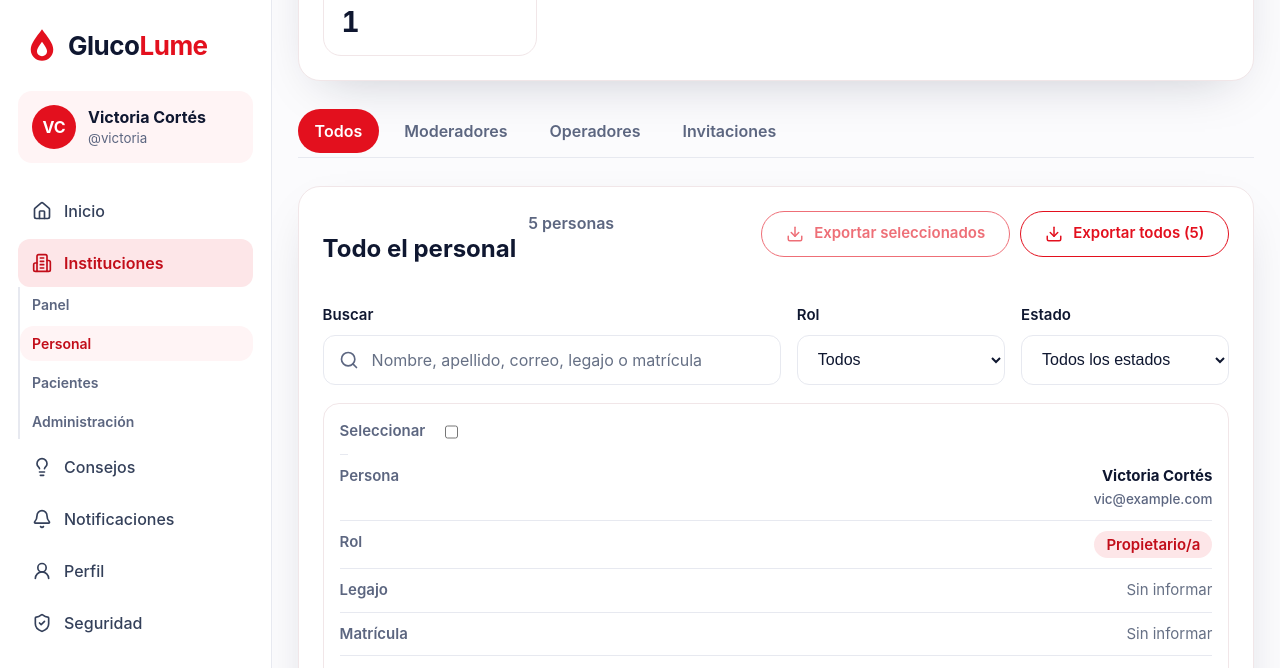
Test: Personal: vista general › filtra por rol (incluido propietario), por estado y combina filtros
(page scrolled)
Select "Propietario/a" in the dropdown labelled "Rol" at x=901, y=360, box [797,335,1005,385]
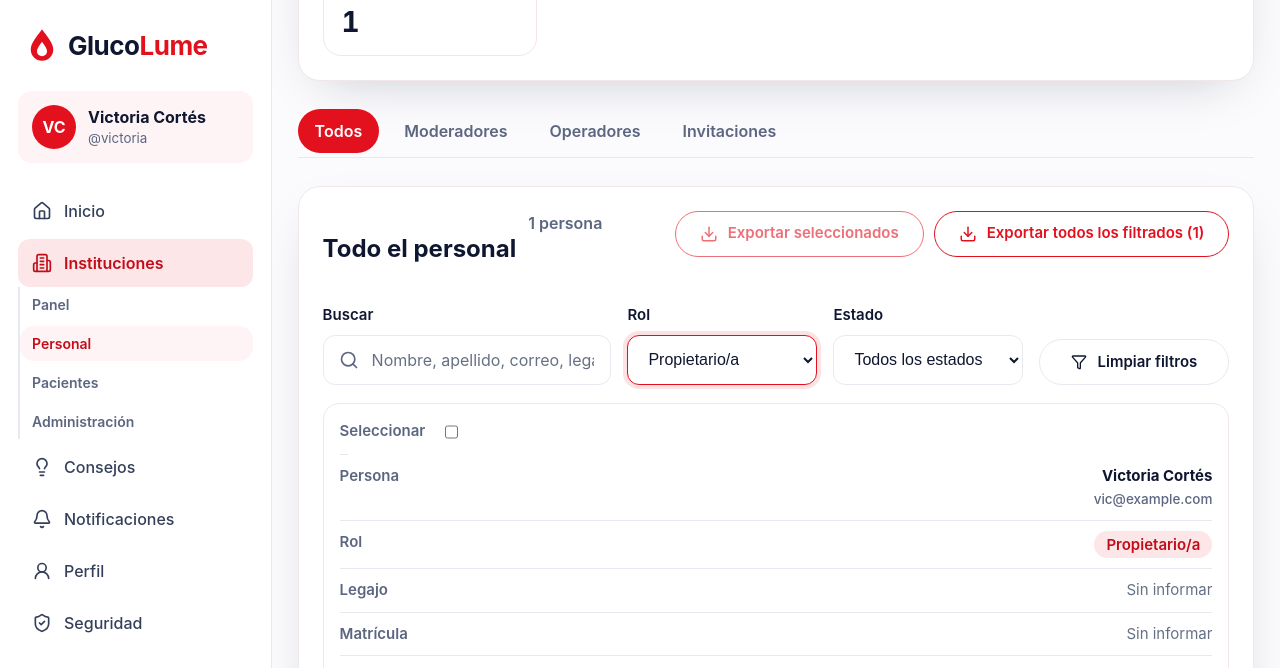
Expected: the text "Victoria Cortés" below "Fecha de baja" is shown, [1102,466,1212,485]
Select "Operadores" in the dropdown labelled "Rol" at x=722, y=360, box [627,335,817,385]
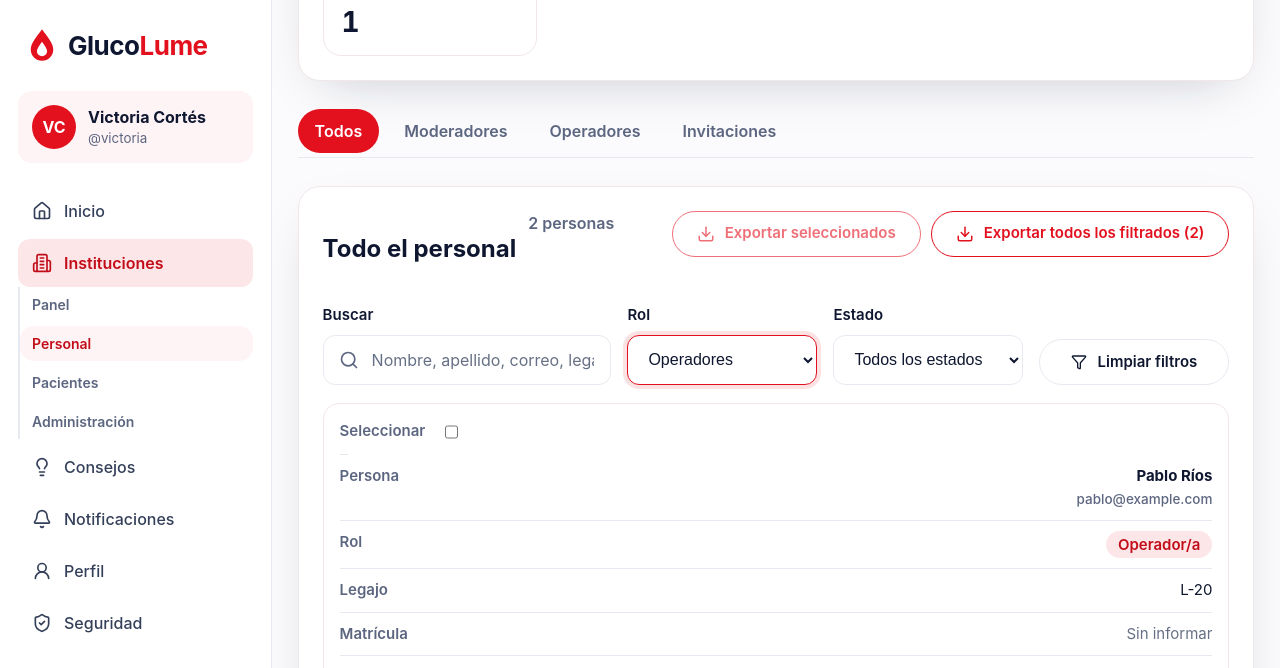
Select "Pendiente de incorporación" in the dropdown labelled "Estado" at x=928, y=360, box [833,335,1023,385]
(page scrolled)
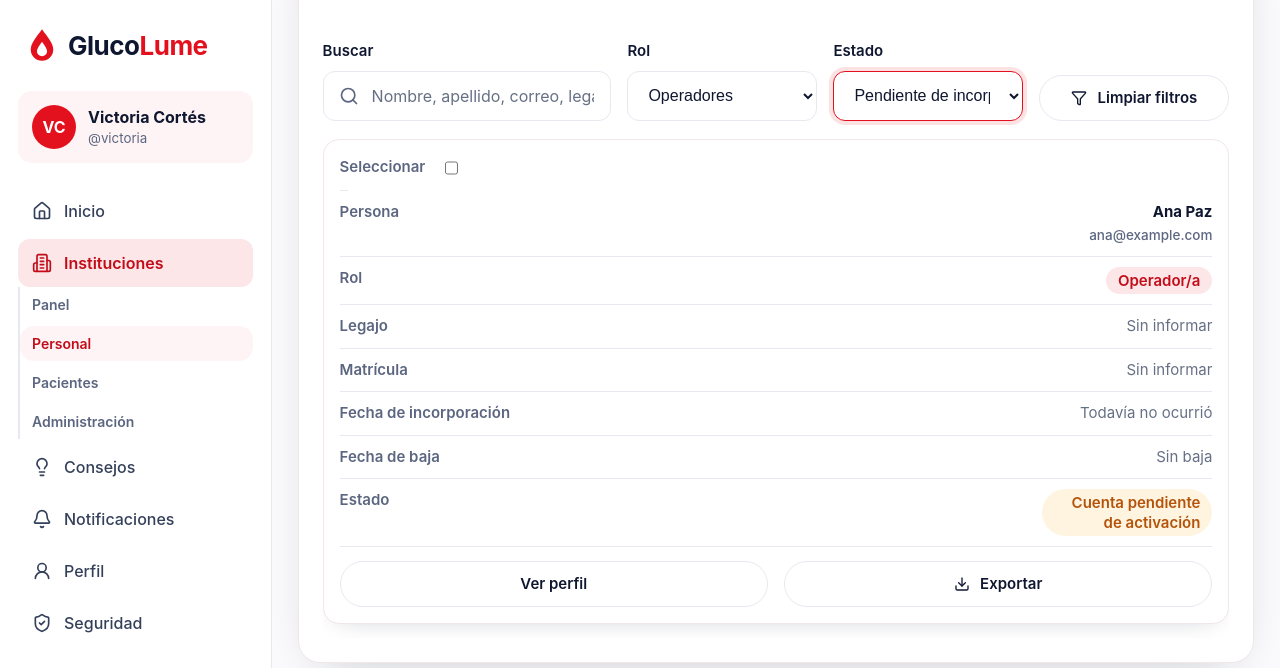
Expected: the table shows "Ana Paz", [1153,202,1212,221]
Expected: the table no longer shows "Pablo Ríos", [323,139,1229,624]
